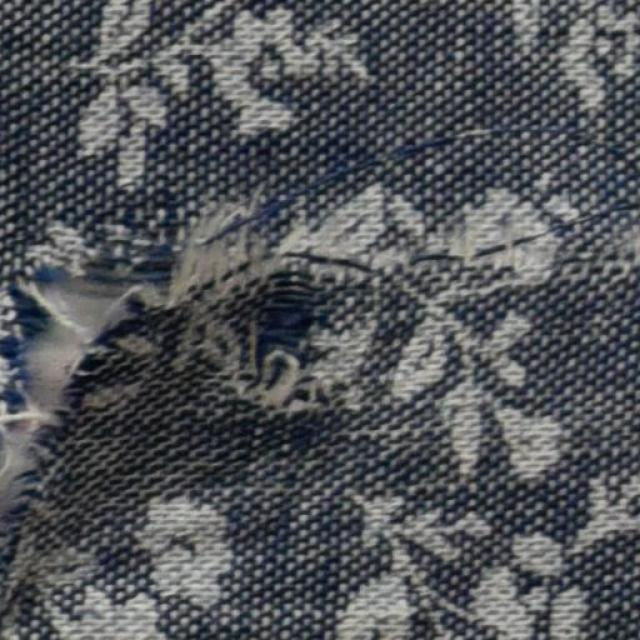Hole: (2, 275, 134, 495)
Snag: (157, 195, 374, 329)
